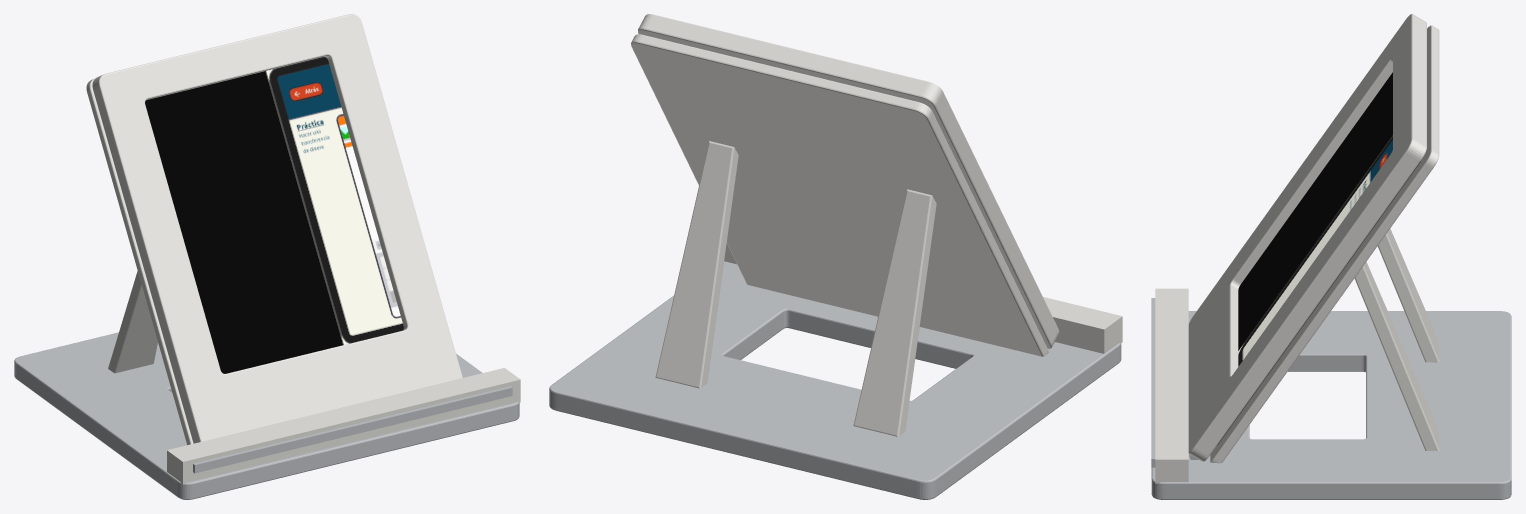
The model's file is soporte-tablet.glb.
The picture shows the model from 3 angles, left to right: view 1: azimuth 30°, elevation 25°; view 2: azimuth 150°, elevation 25°; view 3: azimuth 270°, elevation 25°; orthographic projection. The views are drawn at different scales.
Parts seen in each view (by area): view 1: screen_video, panel_frame, base_plate, front_rail, rail_inlay, strut_left, panel_back; view 2: panel_back, base_plate, panel_frame, strut_left, strut_right, front_rail; view 3: base_plate, panel_frame, screen_video, panel_back, front_rail, strut_right, strut_left, rail_inlay.
Boxes of the visible parts, x1,y1,x2,y2 form: screen_video: (145, 57, 403, 373); panel_frame: (92, 14, 462, 443); base_plate: (14, 332, 519, 499); front_rail: (167, 368, 520, 484); rail_inlay: (193, 386, 512, 473); strut_left: (108, 271, 157, 373); panel_back: (86, 78, 193, 444); panel_back: (631, 34, 1048, 356); base_plate: (549, 261, 1121, 499); panel_frame: (638, 14, 1059, 348); strut_left: (853, 189, 936, 436); strut_right: (655, 141, 738, 388); front_rail: (724, 243, 1122, 353); base_plate: (1151, 311, 1511, 499); panel_frame: (1188, 14, 1426, 461); screen_video: (1238, 72, 1392, 366); panel_back: (1210, 25, 1439, 463); front_rail: (1155, 288, 1188, 483); strut_right: (1354, 262, 1439, 450); strut_left: (1377, 228, 1439, 362); rail_inlay: (1151, 298, 1155, 467).
Size of the model in its own units: 0.3424 by 0.3152 by 0.3027.
6 materials, 1 textured.
